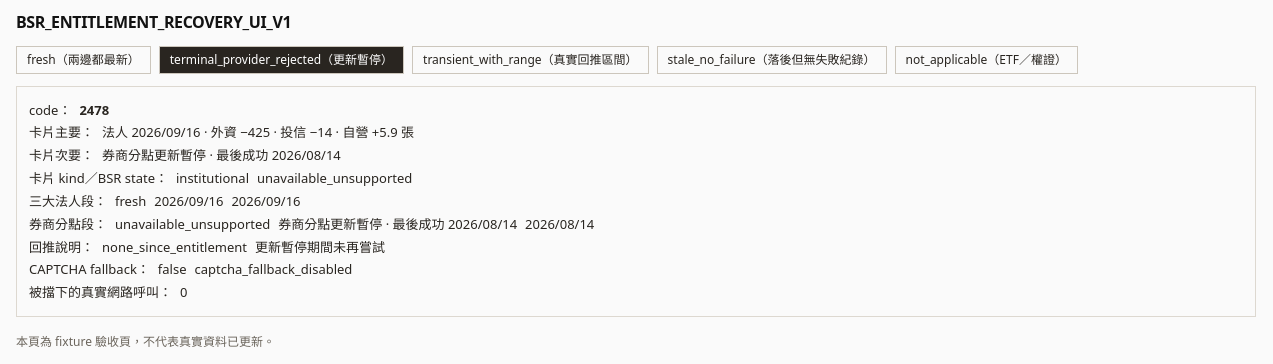
Test: BSR provider state harness › not_applicable：ETF 不適用，且不打任何網路
Click the button "not_applicable（ETF／權證）": [986, 60] box 894,46 -> 1078,74
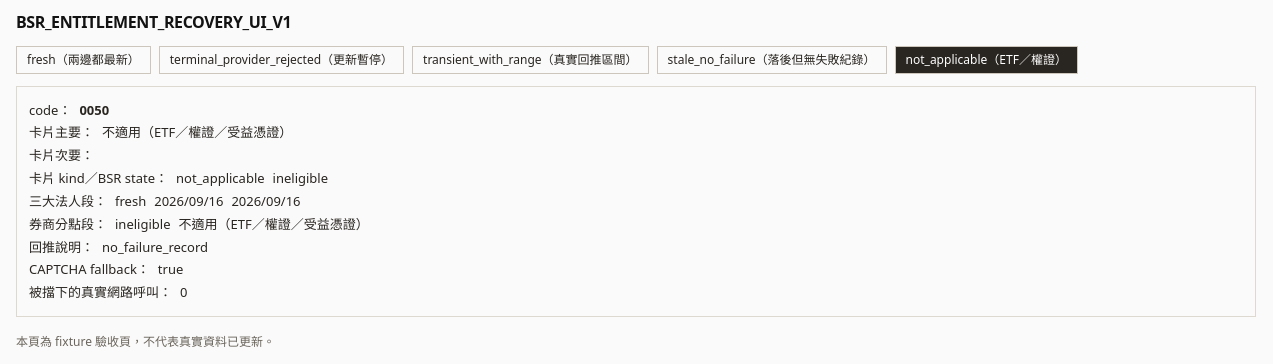
Result: the text with test id "card-kind" reads "not_applicable" at 176,169 -> 265,187
Result: the text "ineligible" in the row of "卡片 kind／BSR state：" is shown at 273,169 -> 328,187
